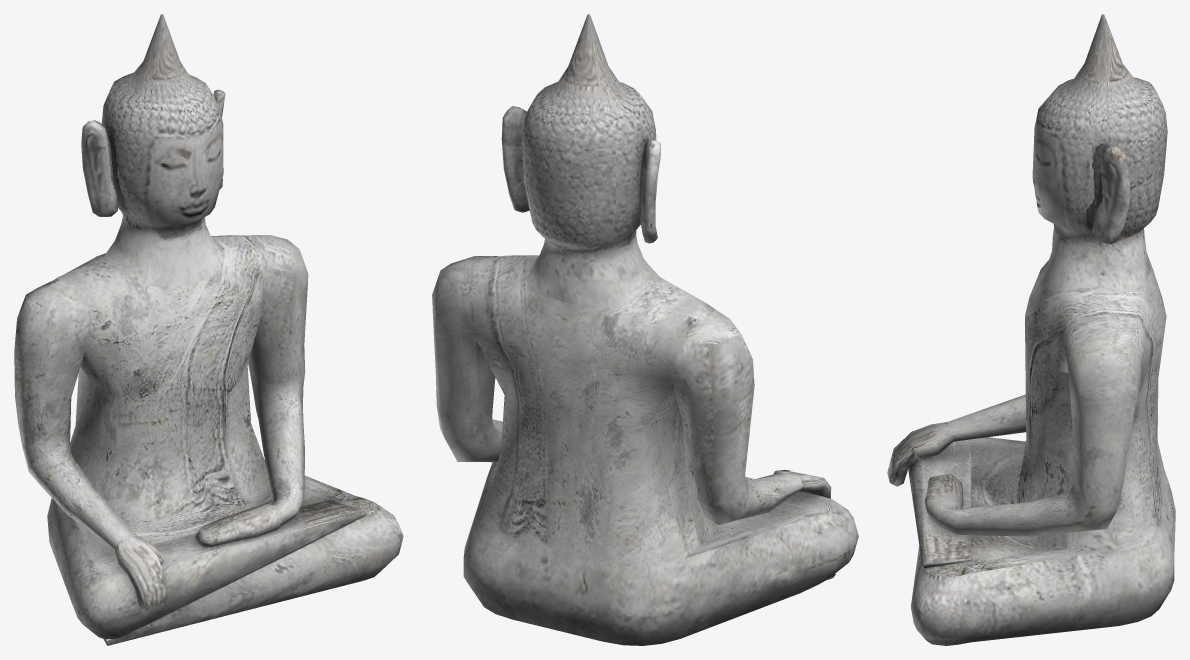
File: prop3.glb
The picture shows the model from 3 angles, left to right: view 1: azimuth 30°, elevation 25°; view 2: azimuth 150°, elevation 25°; view 3: azimuth 270°, elevation 25°; orthographic projection. The views are drawn at different scales.
Visible parts, largest first — view 1: Buddha_tex_Buddha_0; view 2: Buddha_tex_Buddha_0; view 3: Buddha_tex_Buddha_0.
Boxes of the visible parts, x1,y1,x2,y2 form: Buddha_tex_Buddha_0: (14,14,403,645); Buddha_tex_Buddha_0: (432,14,858,645); Buddha_tex_Buddha_0: (887,14,1175,645).
Bounding box in the file's own units: 1.32 × 2.12 × 0.9805.
Materials: 1 (1 with a texture image).
